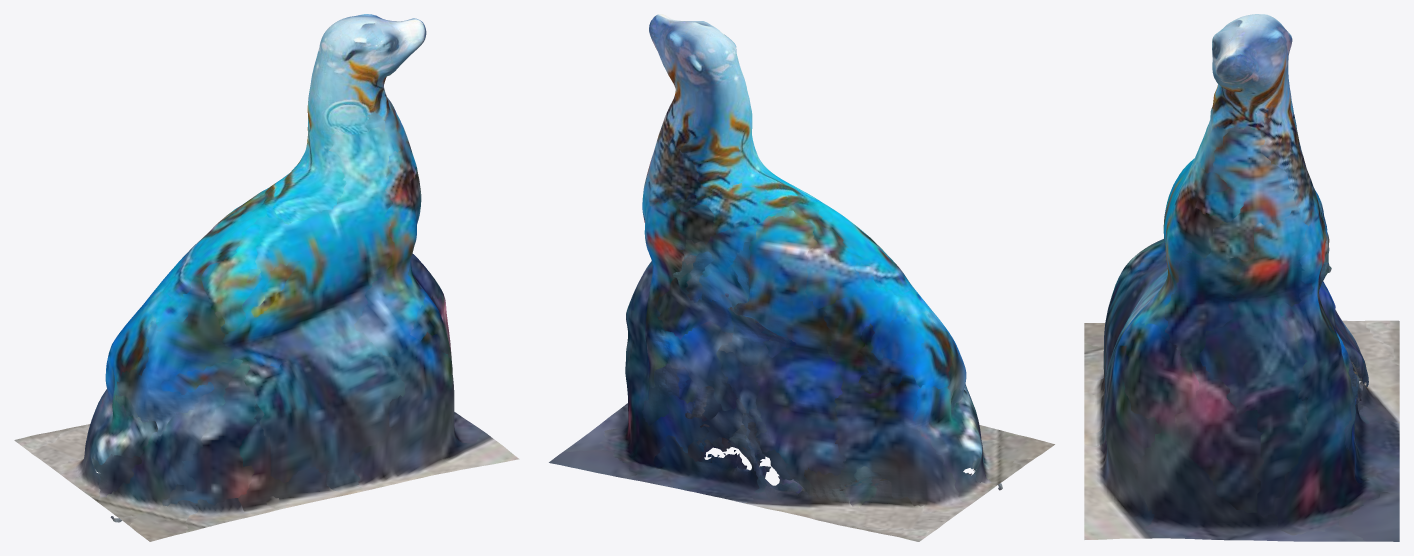
File: sea_lion_statue_marina_san_francisco_1.glb
3 views of the same model, side by side, from view 1: azimuth 30°, elevation 25°; view 2: azimuth 150°, elevation 25°; view 3: azimuth 270°, elevation 25° (orthographic). The views are drawn at different scales.
Visible parts, largest first — view 1: Object_2; view 2: Object_2; view 3: Object_2.
Boxes of the visible parts, box(x1,y1,x2,y2) form: Object_2: box(14, 14, 519, 541); Object_2: box(549, 14, 1054, 541); Object_2: box(1084, 14, 1399, 541).
Bounding box in the file's own units: 1.74 × 1.86 × 1.11.
Materials: 1 (1 with a texture image).
